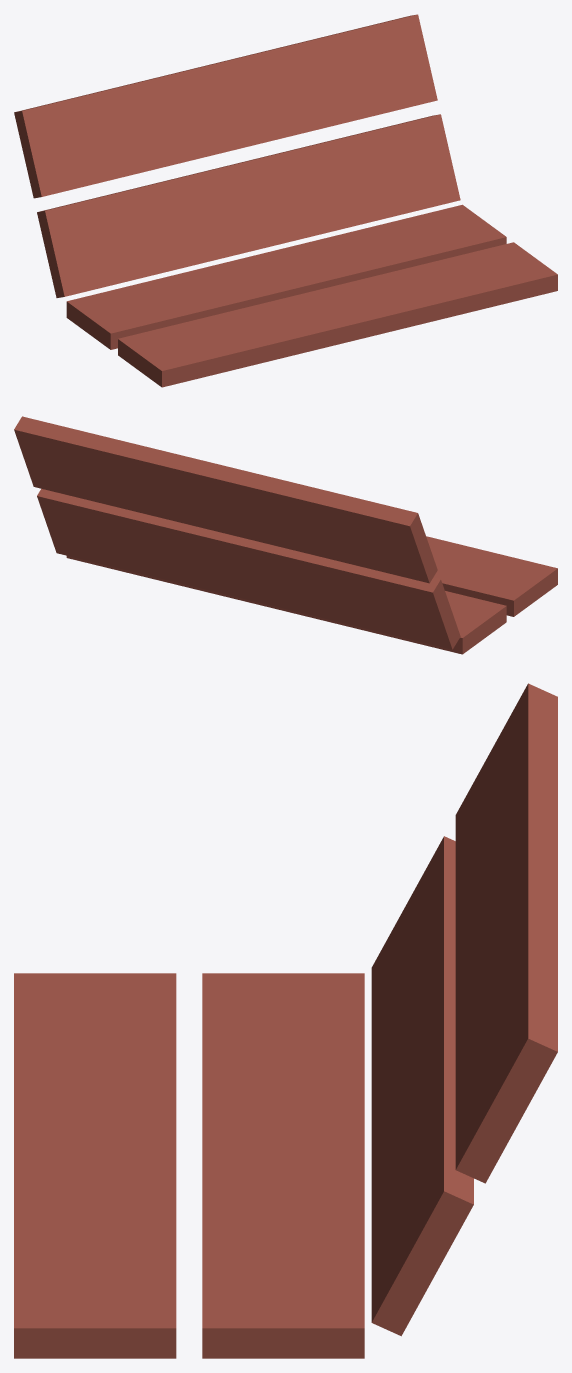
File: river.dae
The picture shows the model from 3 angles, top to bottom: view 1: azimuth 30°, elevation 25°; view 2: azimuth 150°, elevation 25°; view 3: azimuth 270°, elevation 25°; orthographic projection. The views are drawn at different scales.
Parts seen in each view (by area): view 1: bench; view 2: bench; view 3: bench.
Boxes of the visible parts, bbox=[...] form: bench: bbox=[14, 14, 557, 387]; bench: bbox=[14, 416, 557, 654]; bench: bbox=[14, 683, 557, 1358].
Bounding box in the file's own units: 1.83 × 1.19 × 0.7706.
